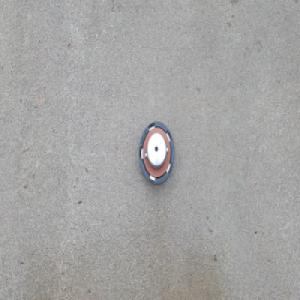FuelCap: (136, 118, 174, 186)
